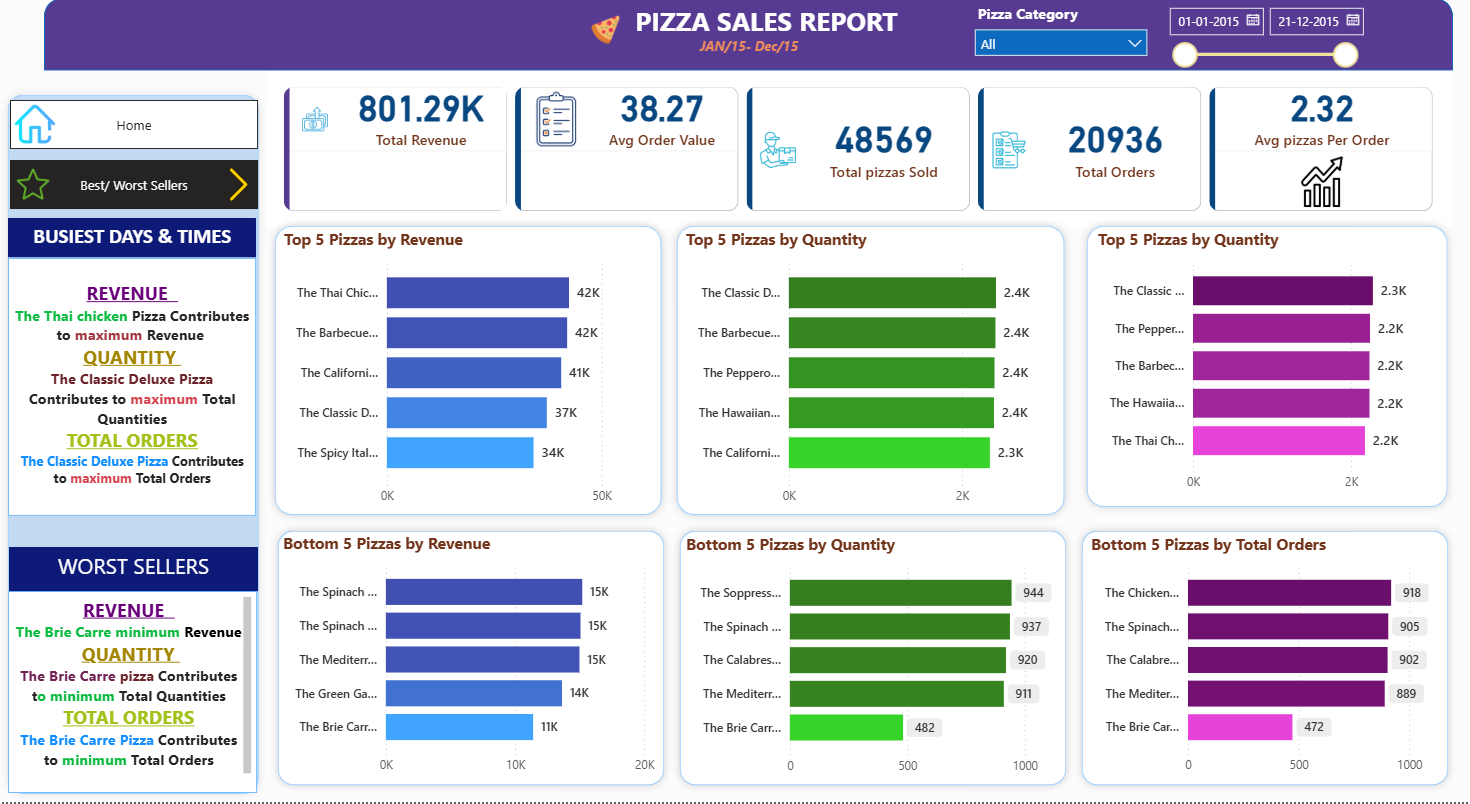

The dashboard page shown, as its layout file describes it:
{"tool":"powerbi","page":{"name":"Best/ Worst Sellers","canvas":[1500,820],"ordinal":1},"visuals":[{"type":"cardVisual","fields":{"Data":["pizza_sales.Total Revenue","pizza_sales.Avg Order Value","pizza_sales.Total pizzas Sold","pizza_sales.Total Orders","pizza_sales.Avg pizzas Per Order"]},"box":[271.9,73.9,1209.6,161.1],"z":0},{"type":"shape","box":[45,0,1437,74],"z":1000},{"type":"textbox","box":[634,0,295,65],"z":2000},{"type":"textbox","box":[634,35,259,46],"z":3000},{"type":"image","box":[593,17,49,30],"z":4000},{"type":"shape","box":[271.9,224.7,410.4,310.9],"z":5000},{"type":"shape","box":[0,91,272,729],"z":6000},{"type":"textbox","box":[8.2,224.7,253.4,40],"z":7000},{"type":"textbox","box":[8.2,264.7,253.4,262.7],"z":8000},{"type":"textbox","box":[8,605,254,206],"z":9000},{"type":"textbox","box":[9,560,254,45],"z":10000},{"type":"slicer","fields":{"Values":["pizza_sales.pizza_category"]},"box":[984,0,196,74],"z":11000},{"type":"slicer","fields":{"Values":["pizza_sales.order_date"]},"box":[1180,0,218,74],"z":12000},{"type":"shape","box":[682.3,224.7,411.4,310.9],"z":13000},{"type":"shape","box":[1100.9,224.7,383.7,302.7],"z":14000},{"type":"shape","box":[275.4,535.4,410,275.4],"z":15000},{"type":"shape","box":[685.4,535.4,410,275.4],"z":16000},{"type":"shape","box":[1095.4,535.4,389.6,275.4],"z":17000},{"type":"barChart","title":"Top 5 Pizzas by Revenue","fields":{"Category":["pizza_sales.pizza_name"],"Y":["pizza_sales.Total Revenue"]},"box":[284.2,235,387.8,291.4],"z":18000},{"type":"barChart","title":"Bottom 5 Pizzas by Revenue","fields":{"Category":["pizza_sales.pizza_name"],"Y":["pizza_sales.Total Revenue"]},"box":[283.5,544.6,388.6,256],"z":19000},{"type":"barChart","title":"Top 5 Pizzas by Quantity","fields":{"Category":["pizza_sales.pizza_name"],"Y":["pizza_sales.Total pizzas Sold"]},"box":[694.6,235,386.8,291.4],"z":20000},{"type":"barChart","title":"Bottom 5 Pizzas by Quantity","fields":{"Category":["pizza_sales.pizza_name"],"Y":["pizza_sales.Total pizzas Sold"]},"box":[694.1,546,392.1,255.3],"z":21000},{"type":"barChart","title":"Top 5 Pizzas by Quantity","fields":{"Category":["pizza_sales.pizza_name"],"Y":["pizza_sales.Total Orders"]},"box":[1115.3,235,356,277],"z":22000},{"type":"barChart","title":"Bottom 5 Pizzas by Total  Orders","fields":{"Category":["pizza_sales.pizza_name"],"Y":["pizza_sales.Total Orders"]},"box":[1107.6,545.6,364.1,255],"z":23000},{"type":"pageNavigator","box":[10.3,165.3,253,50.2],"z":24000},{"type":"pageNavigator","box":[10.3,103.7,253,50.2],"z":25000},{"type":"image","box":[226.8,165.3,34.2,50.2],"z":26000},{"type":"image","box":[10.3,108.3,50.2,41],"z":27000},{"type":"image","box":[10.3,173.3,46.7,33.1],"z":28000}]}

Visuals, with their boxes in screenshot pixels (x1, y1, x2, y2), scaled from the page's 1500x820 canvas onto the 1470x804 screenshot:
cardVisual - pizza_sales.Total Revenue x pizza_sales.Avg Order Value: 266 72 1452 230
shape: 44 0 1452 73
textbox: 621 0 910 64
textbox: 621 34 875 79
image: 581 17 629 46
shape: 266 220 669 525
shape: 0 89 267 803
textbox: 8 220 256 260
textbox: 8 260 256 517
textbox: 8 593 257 795
textbox: 9 549 258 593
slicer - pizza_sales.pizza_category: 964 0 1156 73
slicer - pizza_sales.order_date: 1156 0 1370 73
shape: 669 220 1072 525
shape: 1079 220 1455 517
shape: 270 525 672 795
shape: 672 525 1073 795
shape: 1073 525 1455 795
"Top 5 Pizzas by Revenue" barChart: 279 230 659 516
"Bottom 5 Pizzas by Revenue" barChart: 278 534 659 785
"Top 5 Pizzas by Quantity" barChart: 681 230 1060 516
"Bottom 5 Pizzas by Quantity" barChart: 680 535 1064 786
"Top 5 Pizzas by Quantity" barChart: 1093 230 1442 502
"Bottom 5 Pizzas by Total  Orders" barChart: 1085 535 1442 785
pageNavigator: 10 162 258 211
pageNavigator: 10 102 258 151
image: 222 162 256 211
image: 10 106 59 146
image: 10 170 56 202
